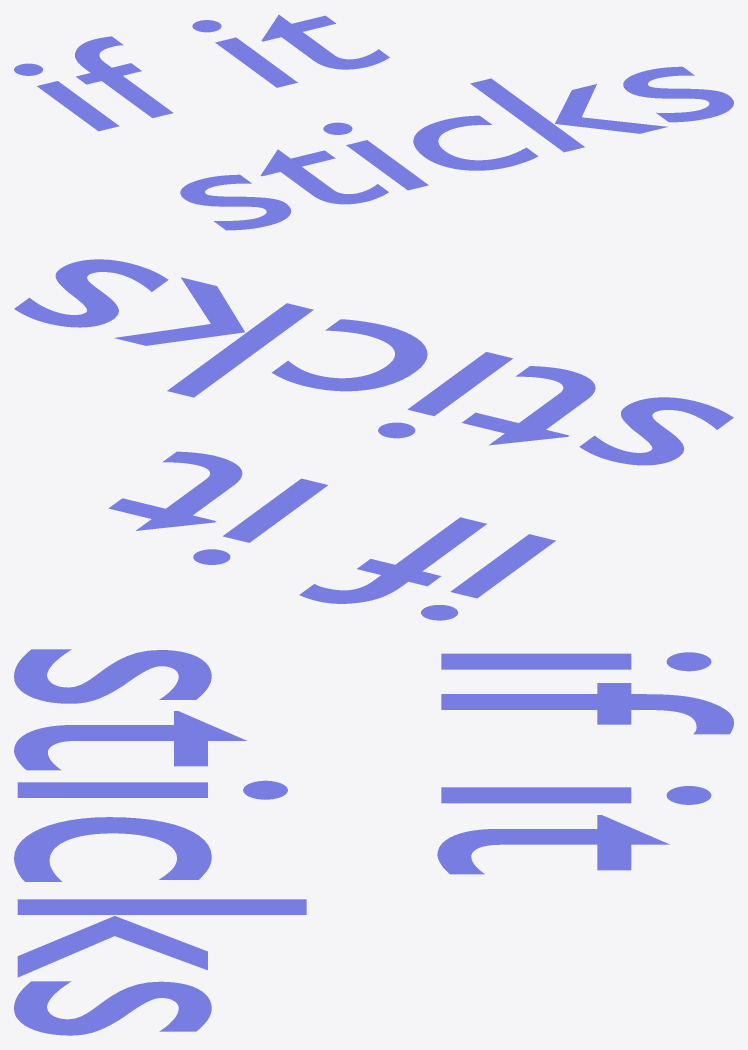
The picture shows the model from 3 angles, top to bottom: view 1: azimuth 30°, elevation 25°; view 2: azimuth 150°, elevation 25°; view 3: azimuth 270°, elevation 25°; orthographic projection. The views are drawn at different scales.
Parts seen in each view (by area): view 1: Text; view 2: Text; view 3: Text.
Part boxes in pixels (bbox=[...]): Text: bbox=[14, 14, 733, 230]; Text: bbox=[14, 259, 733, 620]; Text: bbox=[14, 649, 733, 1035].
Bounding box in the file's own units: 2.16 × 0 × 1.7.
